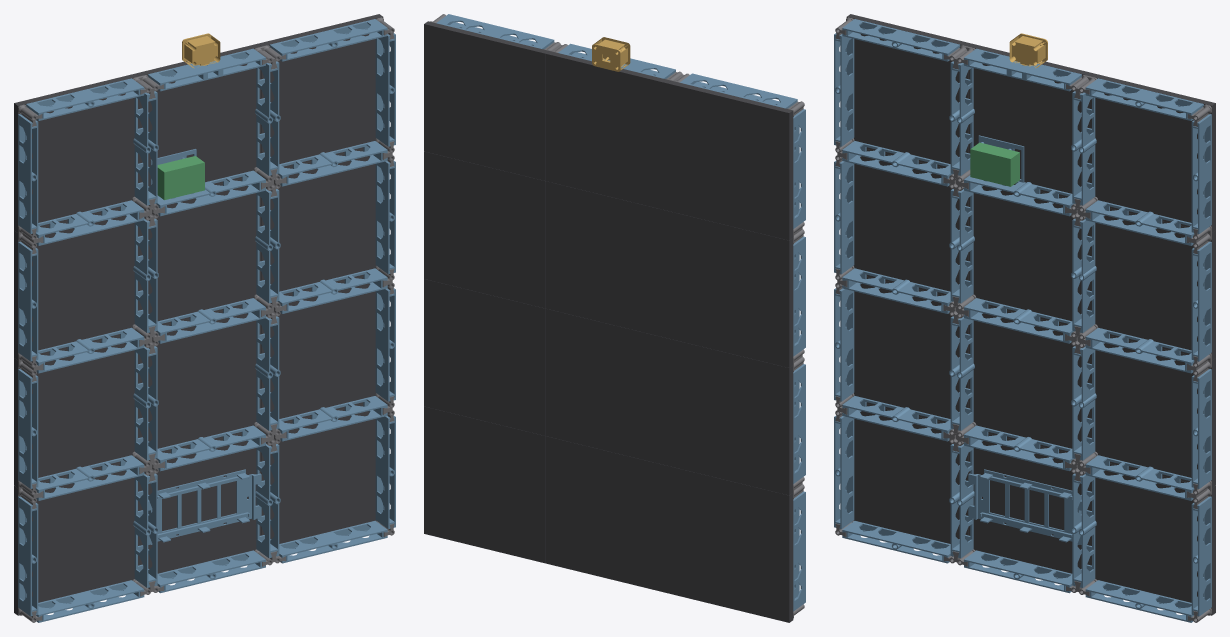
The model's file is digital_assembly_FINAL_B.glb.
The picture shows the model from 3 angles, left to right: view 1: azimuth 30°, elevation 25°; view 2: azimuth 150°, elevation 25°; view 3: azimuth 330°, elevation 25°; orthographic projection.
Parts seen in each view (by area): view 1: panel_1_1, panel_0_3, panel_1_2, panel_0_1, panel_0_2, panel_2_3, panel_0_0, panel_2_1, panel_2_2, panel_2_0, panel_1_3, panel_1_0 (+34 smaller); view 2: panel_0_3, panel_0_1, panel_0_2, panel_0_0, panel_2_3, panel_1_3, panel_2_2, panel_1_0, panel_1_1, panel_1_2, panel_2_0, panel_2_1 (+8 smaller); view 3: panel_1_1, panel_2_3, panel_1_2, panel_2_1, panel_2_2, panel_0_3, panel_2_0, panel_0_1, panel_0_2, panel_0_0, panel_1_3, panel_1_0 (+34 smaller).
Part boxes in pixels (x1,y1,x2,y2): panel_1_1: (139, 306, 261, 452); panel_0_3: (14, 73, 139, 232); panel_1_2: (139, 178, 261, 325); panel_0_1: (14, 336, 139, 487); panel_0_2: (14, 208, 139, 360); panel_2_3: (258, 14, 383, 167); panel_0_0: (14, 463, 139, 615); panel_2_1: (261, 276, 375, 422); panel_2_2: (261, 149, 376, 295); panel_2_0: (261, 404, 376, 543); panel_1_3: (136, 43, 261, 186); panel_1_0: (139, 433, 261, 573); panel_0_3: (667, 80, 793, 240); panel_0_1: (667, 338, 793, 495); panel_0_2: (667, 211, 793, 367); panel_0_0: (667, 466, 793, 622); panel_2_3: (424, 21, 549, 180); panel_1_3: (546, 51, 670, 210); panel_2_2: (424, 151, 545, 308); panel_1_0: (546, 436, 667, 593); panel_1_1: (546, 308, 667, 465); panel_1_2: (546, 181, 667, 338); panel_2_0: (424, 406, 545, 563); panel_2_1: (424, 279, 545, 435); panel_1_1: (968, 306, 1090, 452); panel_2_3: (1090, 73, 1215, 232); panel_1_2: (968, 186, 1090, 324); panel_2_1: (1090, 336, 1215, 487); panel_2_2: (1090, 208, 1215, 360); panel_0_3: (846, 14, 971, 167); panel_2_0: (1090, 463, 1215, 615); panel_0_1: (854, 276, 968, 422); panel_0_2: (853, 149, 968, 295); panel_0_0: (853, 404, 968, 543); panel_1_3: (968, 43, 1093, 197); panel_1_0: (968, 433, 1090, 573).
Bounding box in the file's own units: 769 × 1069 × 62.
